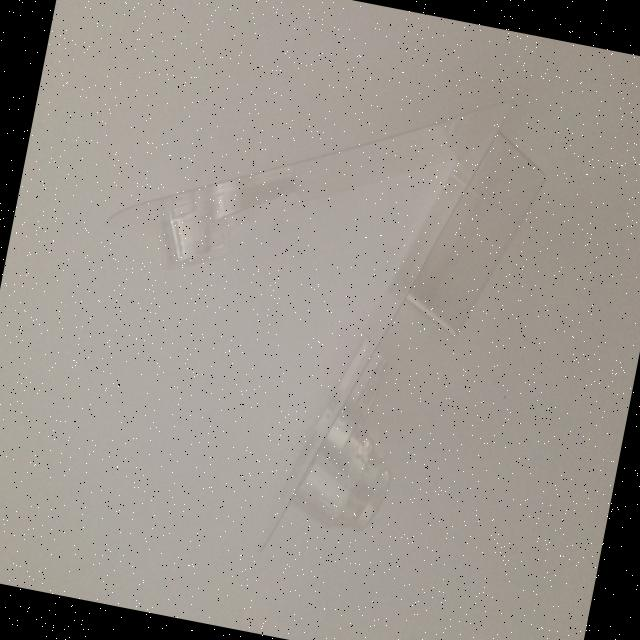plastic: (0, 25, 563, 640)
